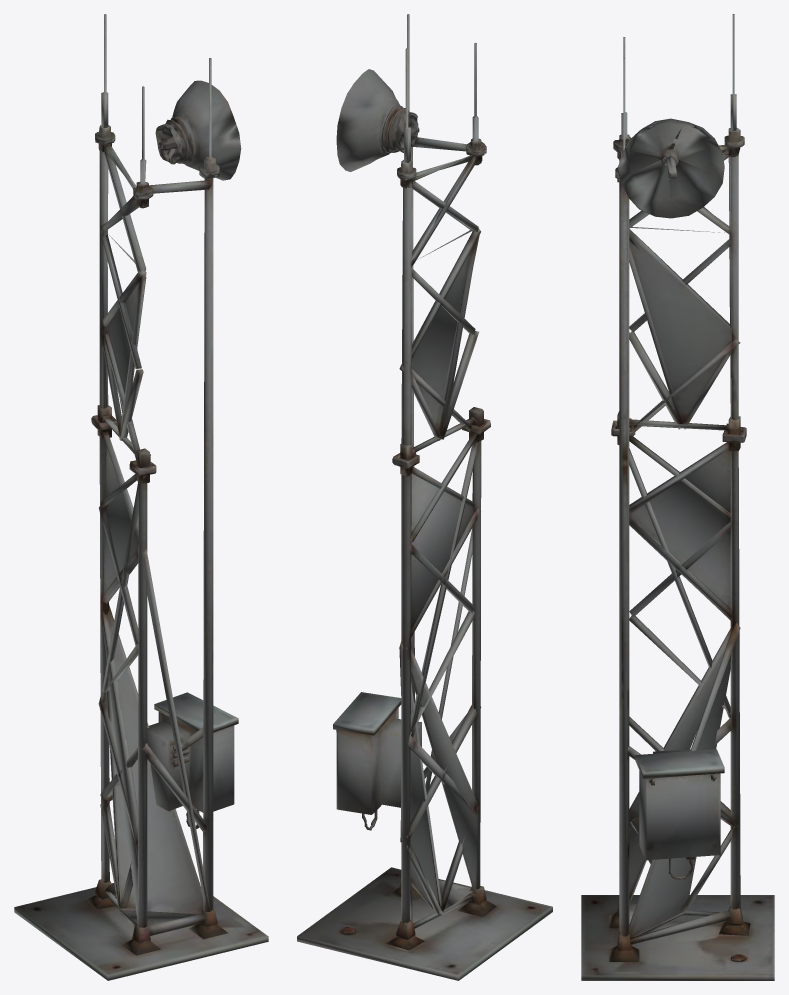
File: prop-antenna.glb
The picture shows the model from 3 angles, left to right: view 1: azimuth 30°, elevation 25°; view 2: azimuth 150°, elevation 25°; view 3: azimuth 270°, elevation 25°; orthographic projection. The views are drawn at different scales.
Parts seen in each view (by area): view 1: Antenna mast; view 2: Antenna mast; view 3: Antenna mast.
Part boxes in pixels (x1,y1,x2,y2): Antenna mast: (14,14,268,980); Antenna mast: (297,14,552,980); Antenna mast: (581,14,774,980).
Size of the model in its own units: 0.1895 by 0.998 by 0.1895.
1 material, 1 textured.
